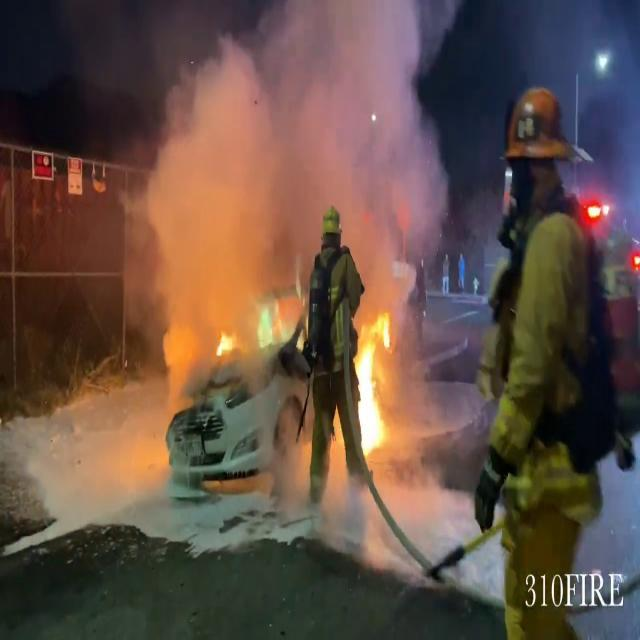Fire: (352, 312, 392, 458)
Smoke: (118, 1, 453, 307)
